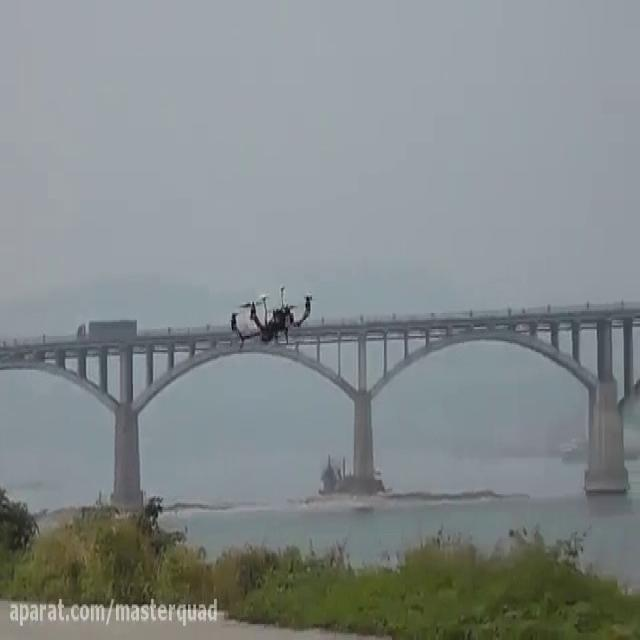drone: (224, 279, 322, 354)
